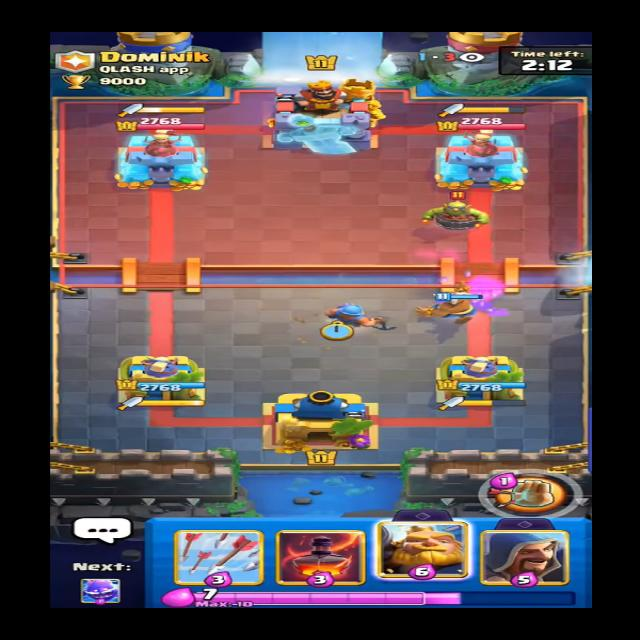goblin-demolisher: (422, 191, 491, 228)
